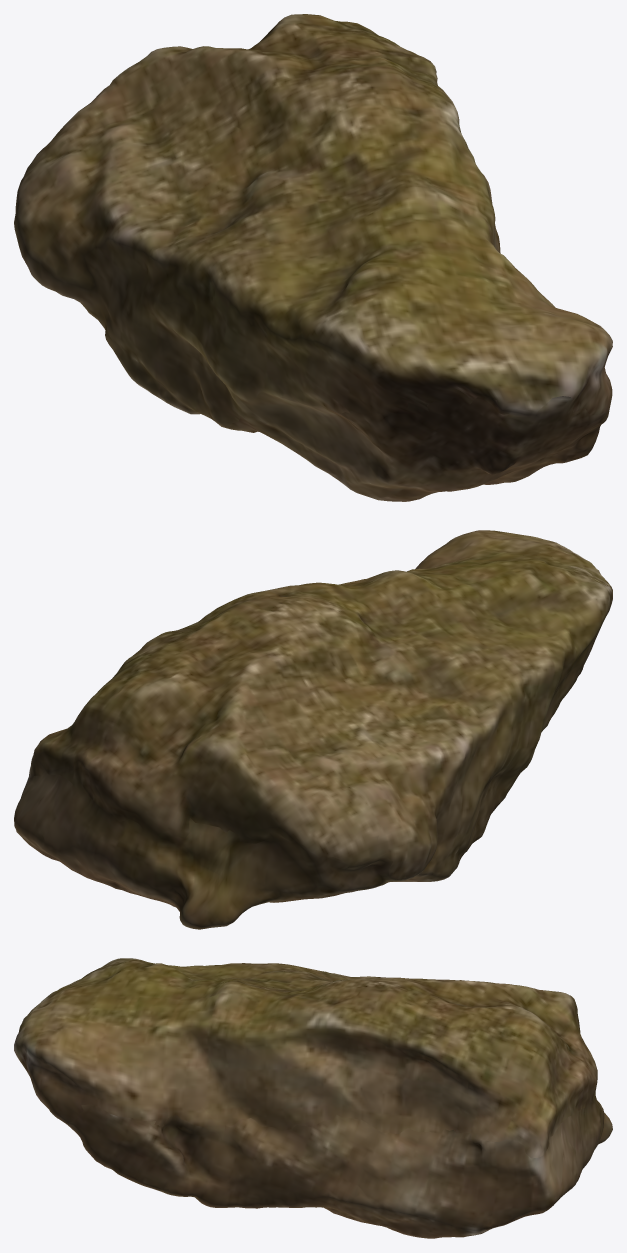
3 renders of one model, top to bottom at view 1: azimuth 30°, elevation 25°; view 2: azimuth 150°, elevation 25°; view 3: azimuth 270°, elevation 25°, orthographic. The views are drawn at different scales.
Visible parts, largest first — view 1: rock_moss_set_01__e_lod0; view 2: rock_moss_set_01__e_lod0; view 3: rock_moss_set_01__e_lod0.
Boxes of the visible parts, x1,y1,x2,y2 form: rock_moss_set_01__e_lod0: (14,14,612,501); rock_moss_set_01__e_lod0: (14,530,612,929); rock_moss_set_01__e_lod0: (14,958,612,1238).
Size of the model in its own units: 1.82 by 1.21 by 3.
Materials: 1 (1 with a texture image).
